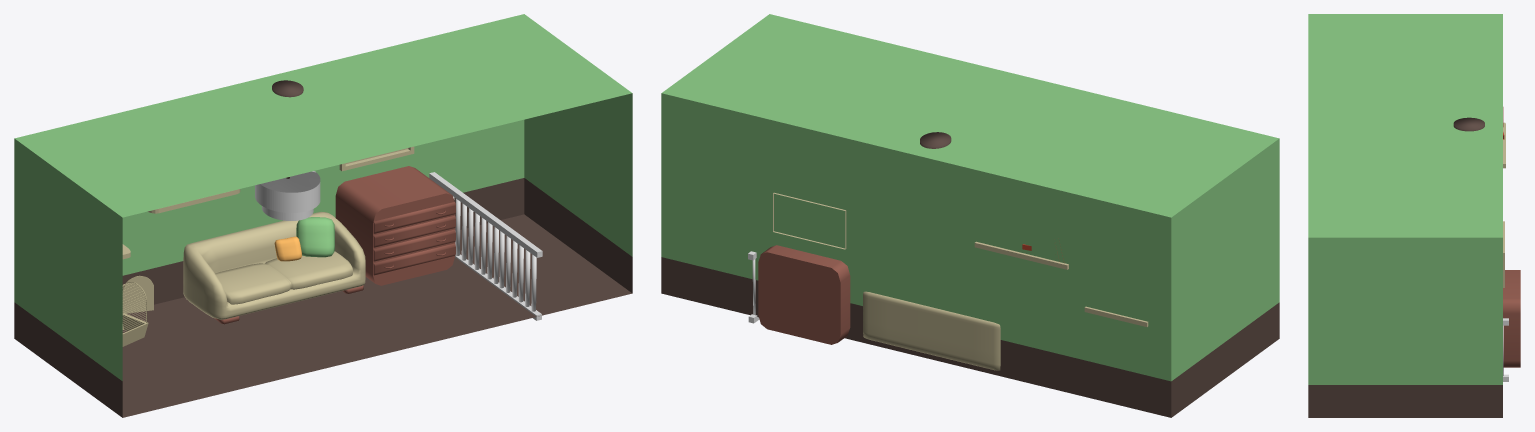
Rendered from salon escenario1 prueba unity.fbx.
3 renders of one model, left to right at view 1: azimuth 30°, elevation 25°; view 2: azimuth 150°, elevation 25°; view 3: azimuth 270°, elevation 25°, orthographic. The views are drawn at different scales.
Visible parts, largest first — view 1: habitación, sofá, Comoda, valla animales, Lámpara de techo, Jaula de conejo, Cuadro; view 2: habitación, Comoda, sofá, estanteria1.001; view 3: habitación, Comoda, Lámpara de techo.
Boxes of the visible parts, <box> form: habitación: <box>14,14,632,417</box>; sofá: <box>183,211,365,324</box>; Comoda: <box>335,166,455,285</box>; valla animales: <box>429,172,542,320</box>; Lámpara de techo: <box>255,80,320,220</box>; Jaula de conejo: <box>122,275,153,346</box>; Cuadro: <box>339,146,414,171</box>; habitación: <box>661,14,1279,417</box>; Comoda: <box>758,245,850,344</box>; sofá: <box>863,291,1000,370</box>; estanteria1.001: <box>974,241,1068,269</box>; habitación: <box>1308,14,1502,417</box>; Comoda: <box>1503,270,1520,367</box>; Lámpara de techo: <box>1453,117,1484,131</box>.
Bounding box in the file's own units: 1849 × 717 × 740.
